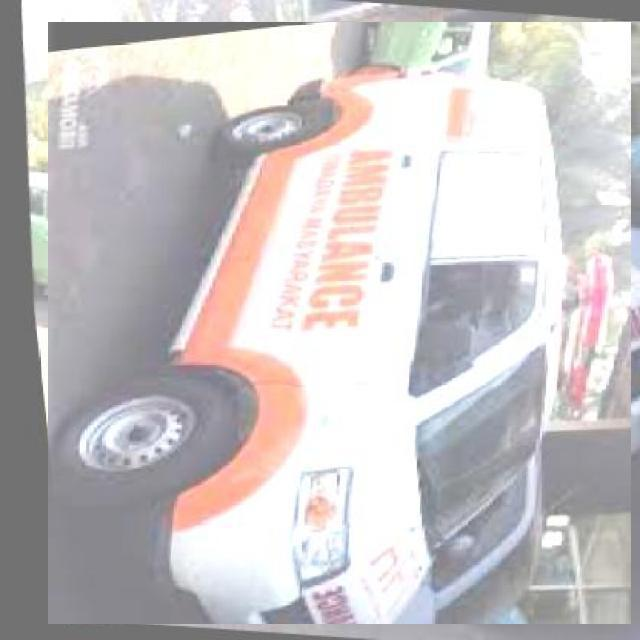emergency-vehicle: (42, 26, 636, 620)
